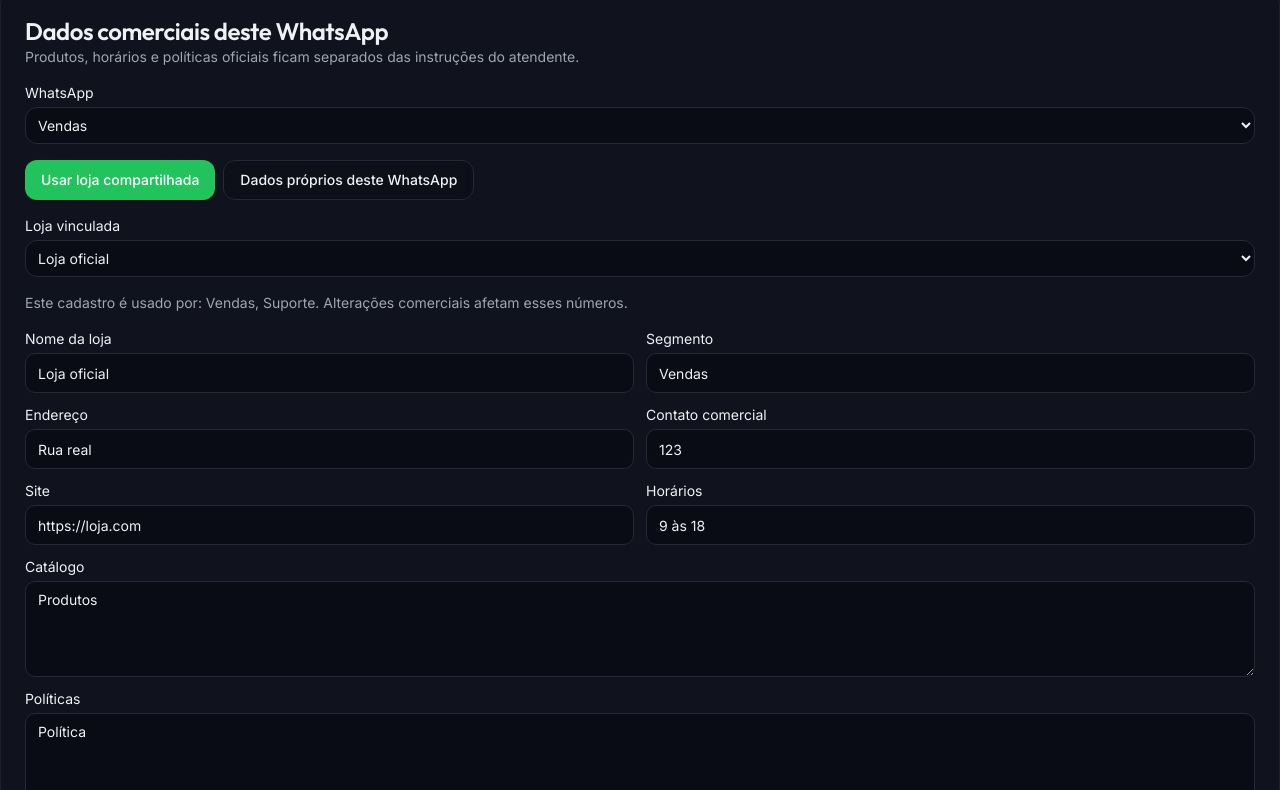
Test: starts exclusive data empty and never fabricates commercial information
The width and height of the screenshot is (1280, 790).
Click the button "Dados próprios deste WhatsApp" at (349, 180), box [223,160,474,200]
(page scrolled)
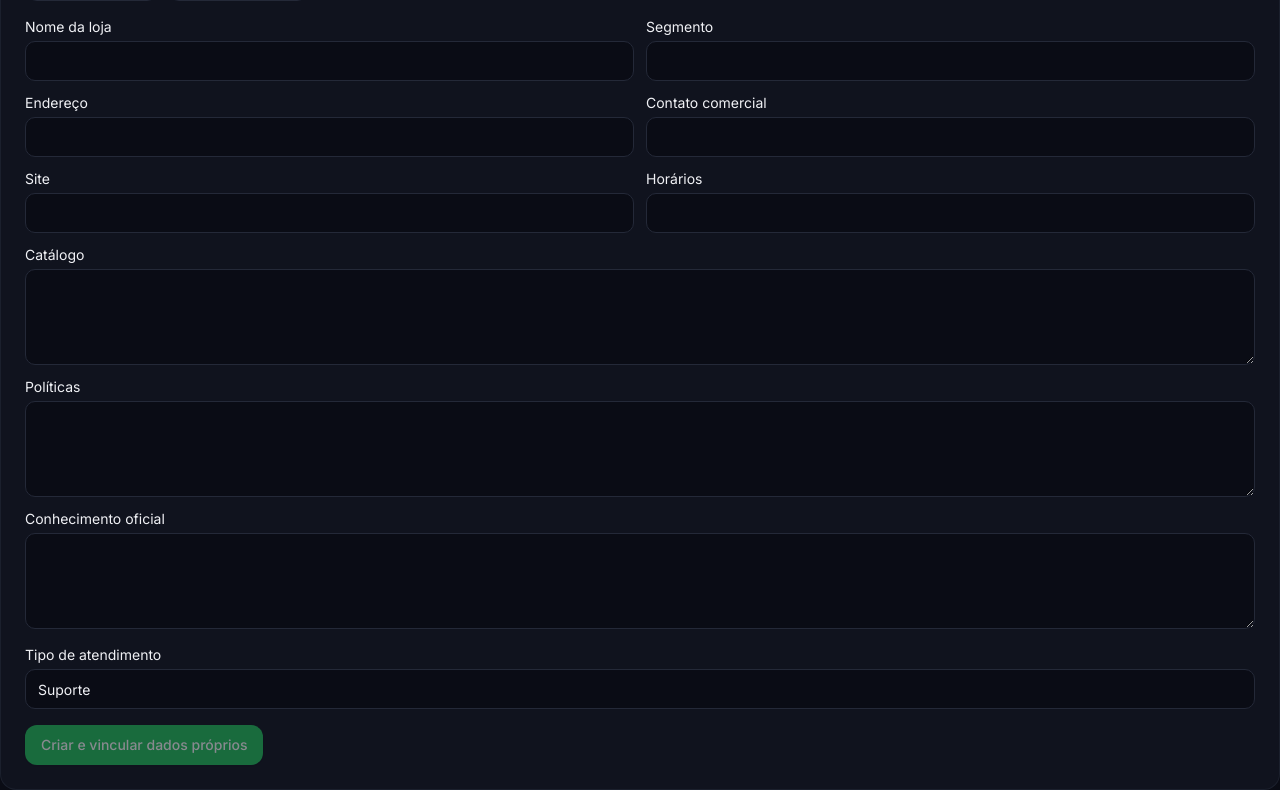
Check: the field named "Nome da loja" is empty, box [25,41,634,81]
Check: the text box named "Conhecimento oficial" is empty, box [25,533,1255,629]
Check: the button "Criar e vincular dados próprios" is disabled, box [25,725,264,765]
